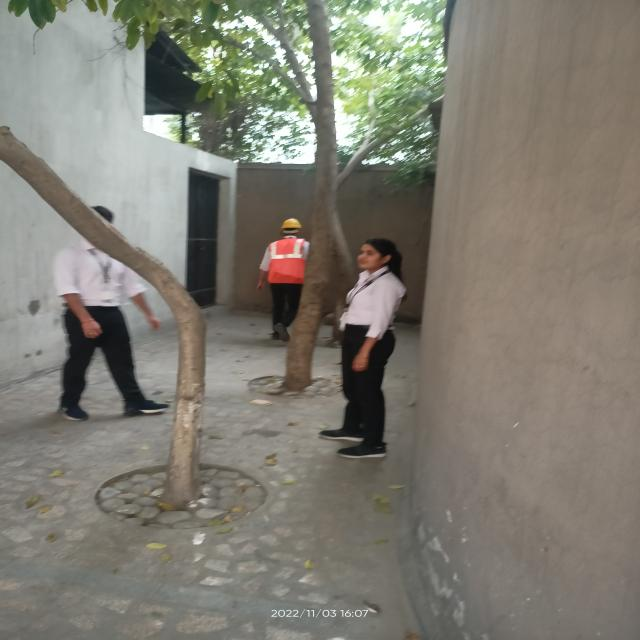safe: (259, 216, 308, 348)
unsafe: (50, 204, 172, 422), (325, 234, 407, 466)
